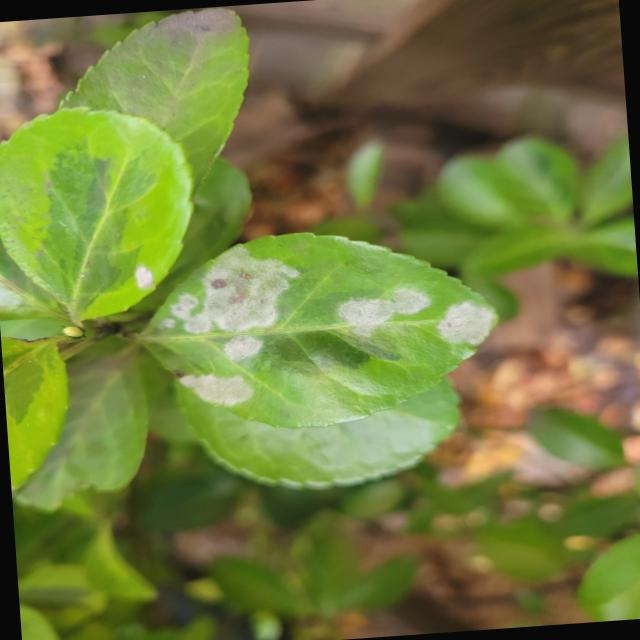powdery_mildew: (140, 233, 495, 428)
